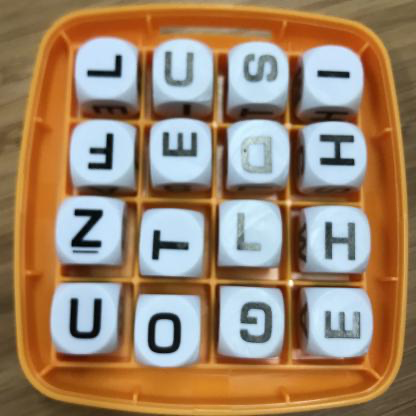d: (231, 122, 293, 185)
e: (315, 291, 373, 358), (153, 121, 214, 181)
f: (74, 119, 135, 182)
g: (223, 288, 285, 362)
h: (306, 123, 368, 184), (312, 212, 371, 271)
i: (308, 48, 365, 106)
l: (222, 198, 280, 270), (80, 36, 136, 100)
o: (137, 299, 203, 368)
s: (232, 45, 289, 102)
t: (147, 211, 201, 273)
u: (56, 285, 116, 353), (154, 40, 213, 99)
z: (61, 197, 120, 264)
